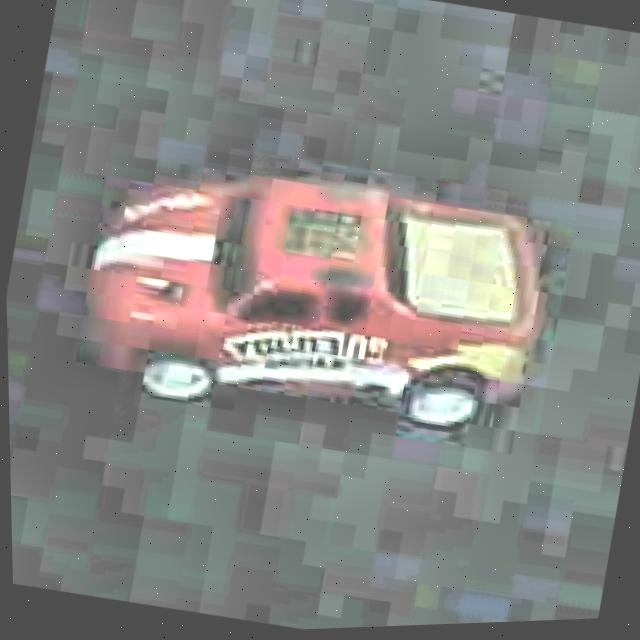car: (60, 121, 569, 473)
